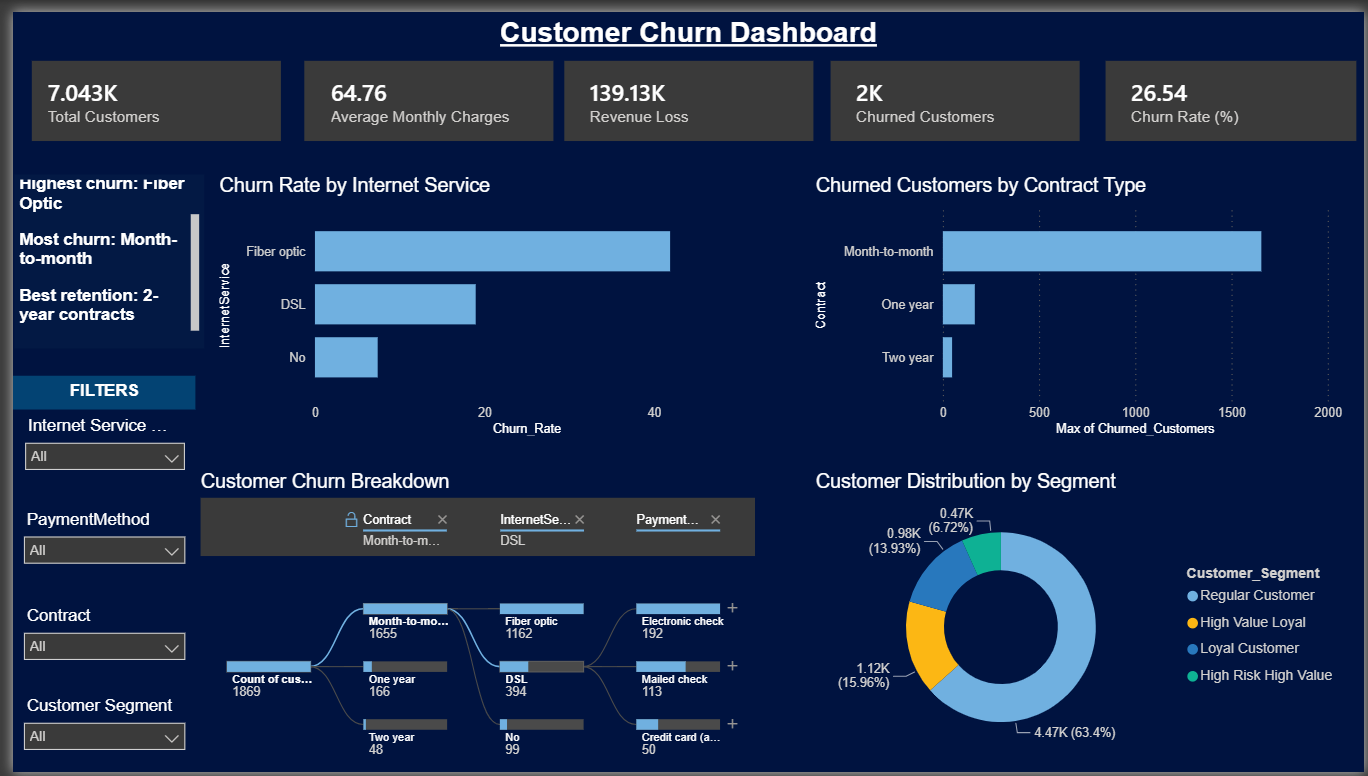

What the dashboard file says about the page in this screenshot:
{"tool":"powerbi","page":{"name":"Page 1","canvas":[1280,720],"ordinal":0},"visuals":[{"type":"textbox","box":[0,0,1280,103.5],"z":0},{"type":"cardVisual","fields":{"Data":["Sum(KPI_Summary.Total_Customers)"]},"box":[12.8,58.3,247,91],"z":1000},{"type":"cardVisual","fields":{"Data":["Sum(KPI_Summary.Churn_Rate)"]},"box":[1030.4,58.3,247,91],"z":2000},{"type":"cardVisual","fields":{"Data":["Sum(KPI_Summary.Churned_Customers)"]},"box":[769.7,58.3,246.4,90.4],"z":3000},{"type":"cardVisual","fields":{"Data":["Sum(KPI_Summary.Avg_Monthly_Charges)"]},"box":[271.2,58.3,246.4,91.8],"z":4000},{"type":"cardVisual","fields":{"Data":["Sum(KPI_Summary.Revenue_Loss)"]},"box":[517.5,58.3,246.4,90.4],"z":5000},{"type":"shape","box":[1.5,376.1,218.7,344.1],"z":6000},{"type":"textbox","box":[0,344.1,220.1,32.1],"z":7000},{"type":"slicer","fields":{"Values":["Customers.Contract"]},"box":[0,558.4,221.6,77.3],"z":8000},{"type":"slicer","fields":{"Values":["Customer_Segmentss.Customer_Segment"]},"box":[0,642.9,221.6,77.3],"z":9000},{"type":"clusteredBarChart","title":"Churned Customers by Contract Type","fields":{"Category":["Churn_By_Contract.Contract"],"Y":["Max(Churn_By_Contract.Churned_Customers)"]},"box":[797.5,154.4,467.1,246.8],"z":10000},{"type":"barChart","title":"Churn Rate by Internet Service","fields":{"Category":["Churn_By_Internet.InternetService"],"Y":["Max(Churn_By_Internet.Churn_Rate)"]},"box":[229.1,154.4,554.4,246.8],"z":11000},{"type":"donutChart","title":"Customer Distribution by Segment","fields":{"Category":["Customer_Segmentss.Customer_Segment"],"Y":["CountNonNull(Customer_Segmentss.customerID)"]},"box":[797.5,434.2,467.1,275.9],"z":12000},{"type":"decompositionTreeVisual","fields":{"ExplainBy":["Customers.Contract","Customers.InternetService","Customers.PaymentMethod","Customer_Segmentss.Customer_Segment"],"Analyze":["CountNonNull(Customers.customerID)"]},"box":[230.4,434.2,553.2,275.9],"z":13000},{"type":"slicer","fields":{"Values":["Customers.InternetService"]},"box":[1.5,377.6,221.6,77.3],"z":14000},{"type":"slicer","fields":{"Values":["Customers.PaymentMethod"]},"box":[0,466.5,221.6,77.3],"z":15000},{"type":"textbox","box":[1.4,154.3,218.6,175.7],"z":16000}]}

Visuals, with their boxes in screenshot pixels (x1, y1, x2, y2), scaled from the page's 1280x720 canvas onto the 1368x776 screenshot:
textbox: 0,0,1367,112
cardVisual - Sum(KPI_Summary.Total_Customers): 14,63,278,161
cardVisual - Sum(KPI_Summary.Churn_Rate): 1101,63,1365,161
cardVisual - Sum(KPI_Summary.Churned_Customers): 823,63,1086,160
cardVisual - Sum(KPI_Summary.Avg_Monthly_Charges): 290,63,553,162
cardVisual - Sum(KPI_Summary.Revenue_Loss): 553,63,816,160
shape: 2,405,235,775
textbox: 0,371,235,405
slicer - Customers.Contract: 0,602,237,685
slicer - Customer_Segmentss.Customer_Segment: 0,693,237,775
"Churned Customers by Contract Type" clusteredBarChart: 852,166,1352,432
"Churn Rate by Internet Service" barChart: 245,166,837,432
"Customer Distribution by Segment" donutChart: 852,468,1352,765
decompositionTreeVisual - Customers.Contract x Customers.InternetService: 246,468,837,765
slicer - Customers.InternetService: 2,407,238,490
slicer - Customers.PaymentMethod: 0,503,237,586
textbox: 1,166,235,356
